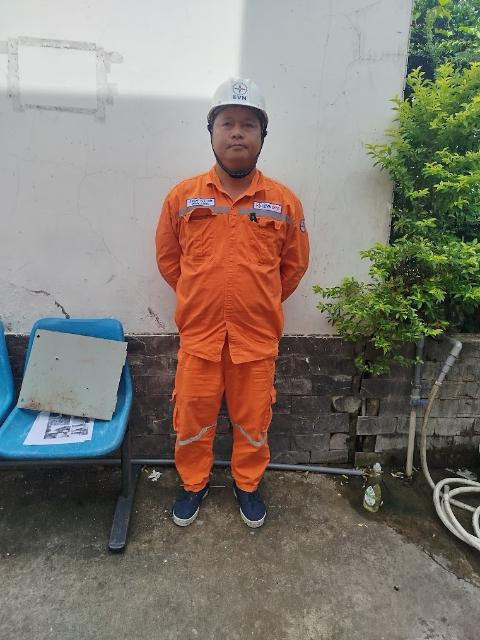helmet: (201, 78, 277, 123)
shoes: (228, 480, 274, 530), (163, 487, 214, 529)
